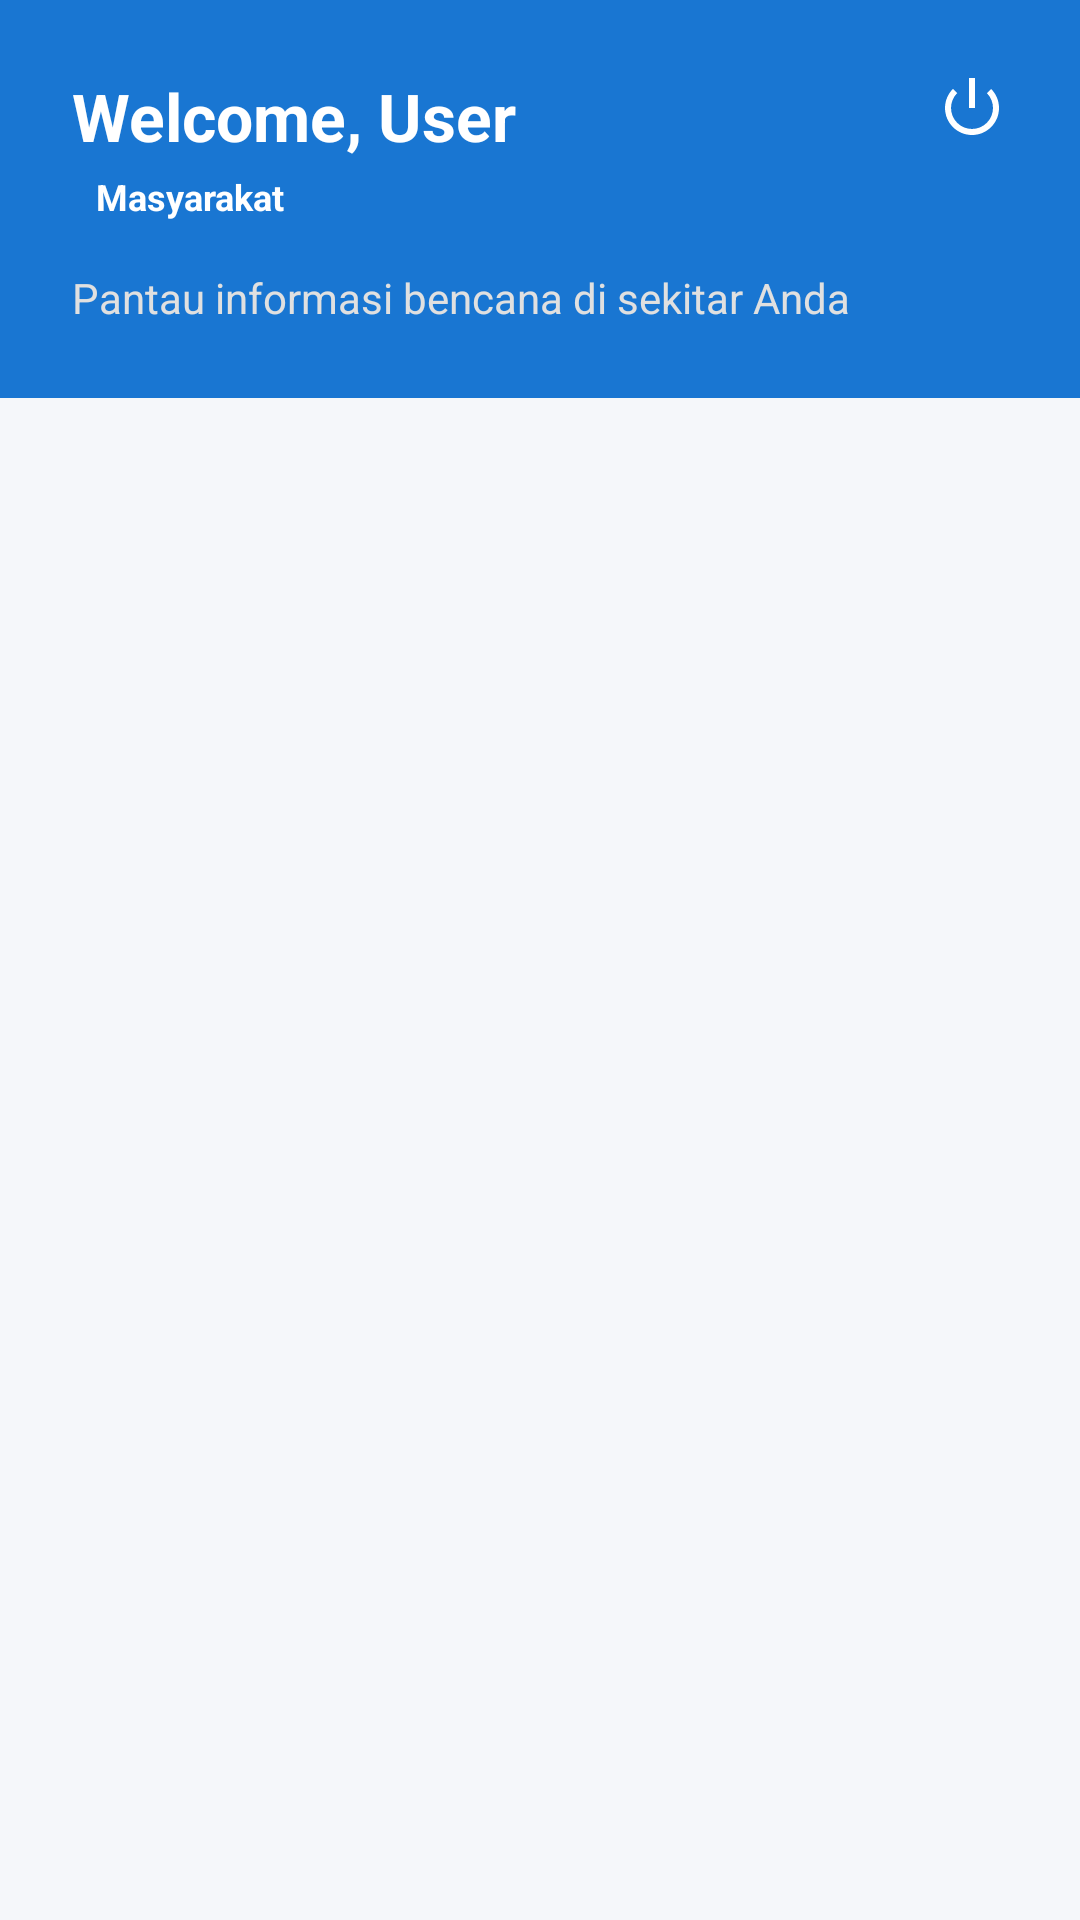

Screen size 1080 x 1920. Icon name, then its box in pixels as [x1, y1, x2, y2]:
lock power off: [945, 78, 999, 135]
